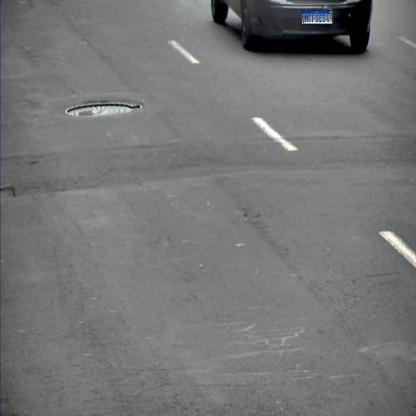PlacaM: (301, 10, 332, 24)
